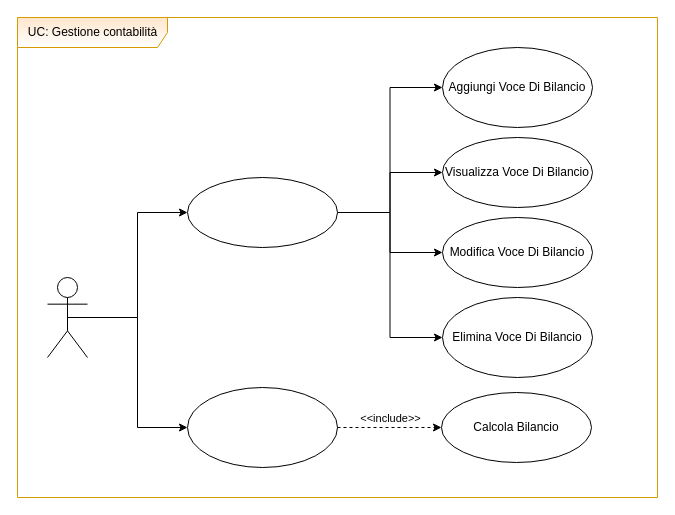
Image size: 675x515. Some labels were removed from this diagram. Here are the shapes that lost their labels. From the top down, the box of each, then its label:
(186, 176, 338, 248): Visualizza Lista Voci Di Bilancio
(46, 276, 88, 358): Utente
(186, 386, 338, 468): Visualizza Bilancio
